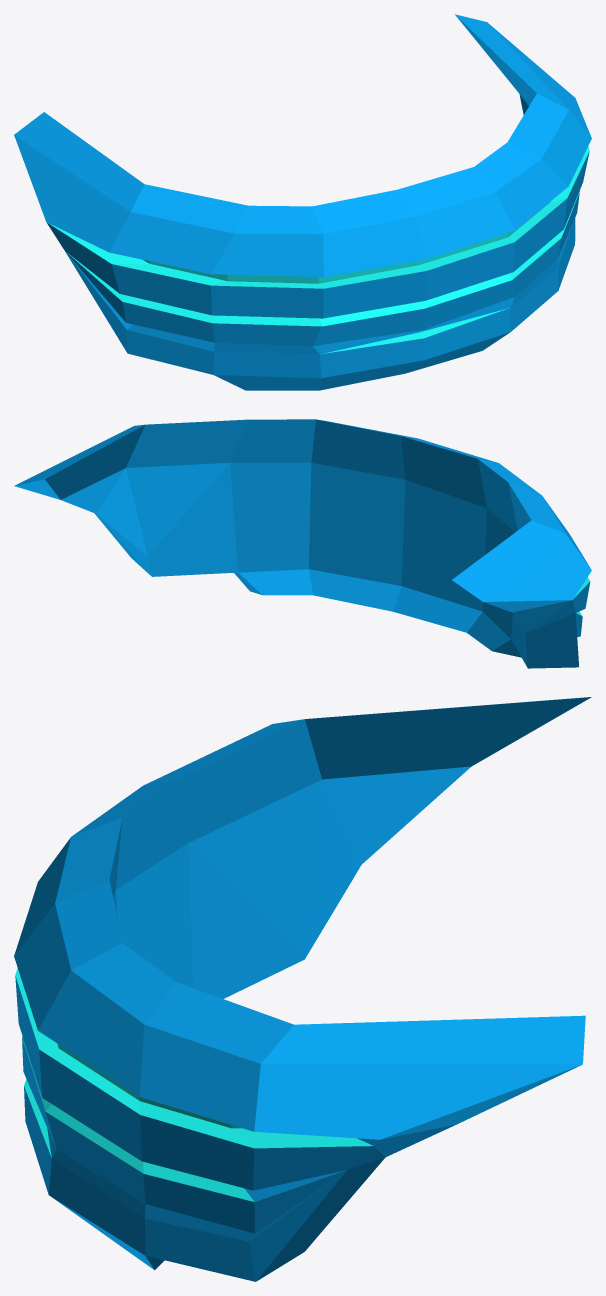
Rendered from 赛博眼镜.fbx.
The picture shows the model from 3 angles, top to bottom: view 1: azimuth 30°, elevation 25°; view 2: azimuth 150°, elevation 25°; view 3: azimuth 270°, elevation 25°; orthographic projection. The views are drawn at different scales.
Parts seen in each view (by area): view 1: 立方体; view 2: 立方体; view 3: 立方体.
Boxes of the visible parts, x1,y1,x2,y2 form: 立方体: [14, 14, 591, 390]; 立方体: [14, 419, 591, 668]; 立方体: [14, 697, 591, 1281].
Bounding box in the file's own units: 0.5637 × 0.1996 × 0.3375.
